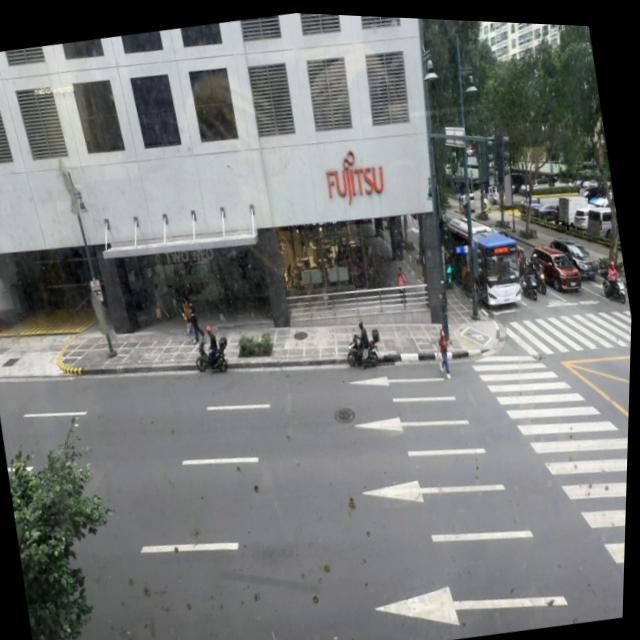jaywalking: (432, 326, 459, 380)
